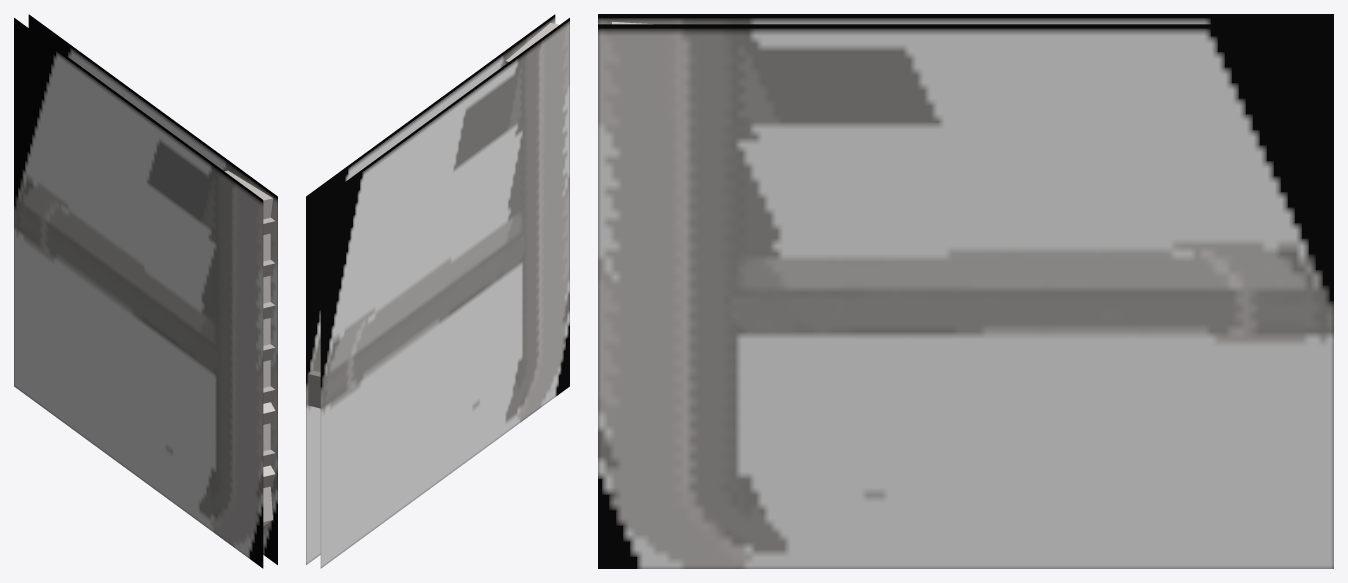
The model's file is pz_native_fixtures_railings_01_132_frame.obj.
3 views of the same model, side by side, from view 1: azimuth 30°, elevation 25°; view 2: azimuth 150°, elevation 25°; view 3: azimuth 270°, elevation 25° (orthographic). The views are drawn at different scales.
Parts seen in each view (by area): view 1: pz_native_fixtures_railings_01_132_frame; view 2: pz_native_fixtures_railings_01_132_frame; view 3: pz_native_fixtures_railings_01_132_frame.
Boxes of the visible parts, left/top/right/bottom form: pz_native_fixtures_railings_01_132_frame: left=14, top=14, right=277, bottom=568; pz_native_fixtures_railings_01_132_frame: left=306, top=14, right=569, bottom=568; pz_native_fixtures_railings_01_132_frame: left=598, top=14, right=1333, bottom=568.
Size of the model in its own units: 0.045 by 1.09 by 1.34.
1 material, 1 textured.
